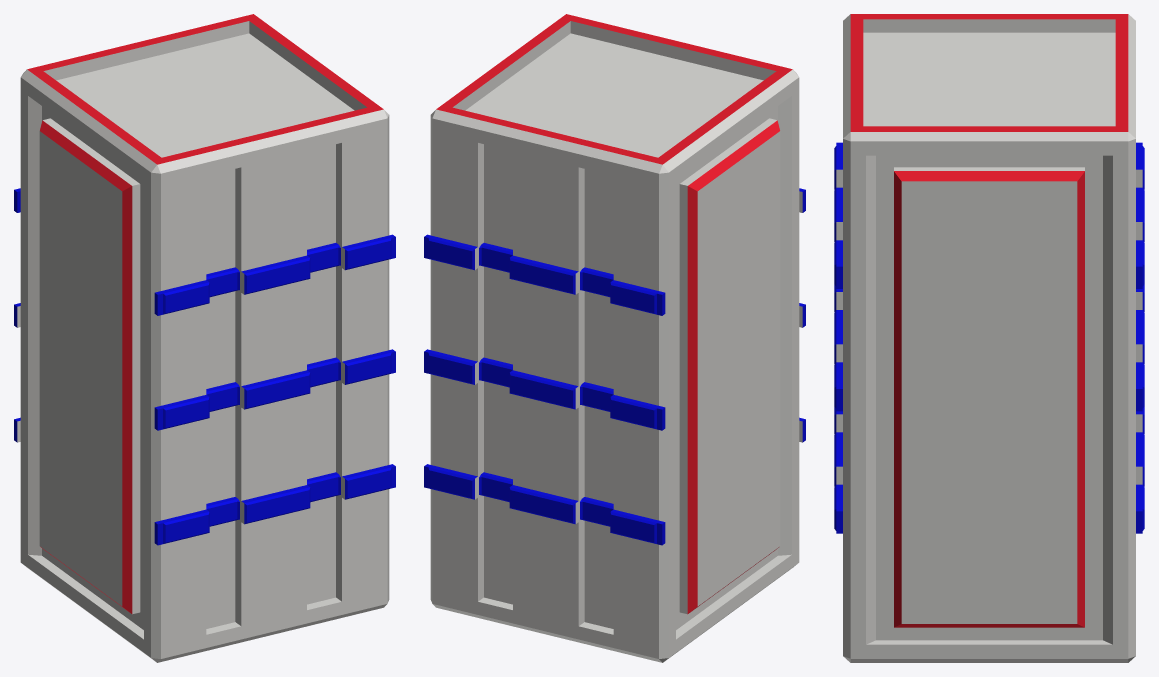
The model's file is TilleableObstacle.fbx.
3 views of the same model, side by side, from view 1: azimuth 30°, elevation 25°; view 2: azimuth 150°, elevation 25°; view 3: azimuth 270°, elevation 25° (orthographic). The views are drawn at different scales.
Visible parts, largest first — view 1: Obstacle; view 2: Obstacle; view 3: Obstacle.
Part boxes in pixels (x1,y1,x2,y2): Obstacle: [14, 14, 395, 662]; Obstacle: [424, 14, 805, 662]; Obstacle: [834, 14, 1144, 662].
Size of the model in its own units: 104 by 200 by 106.
